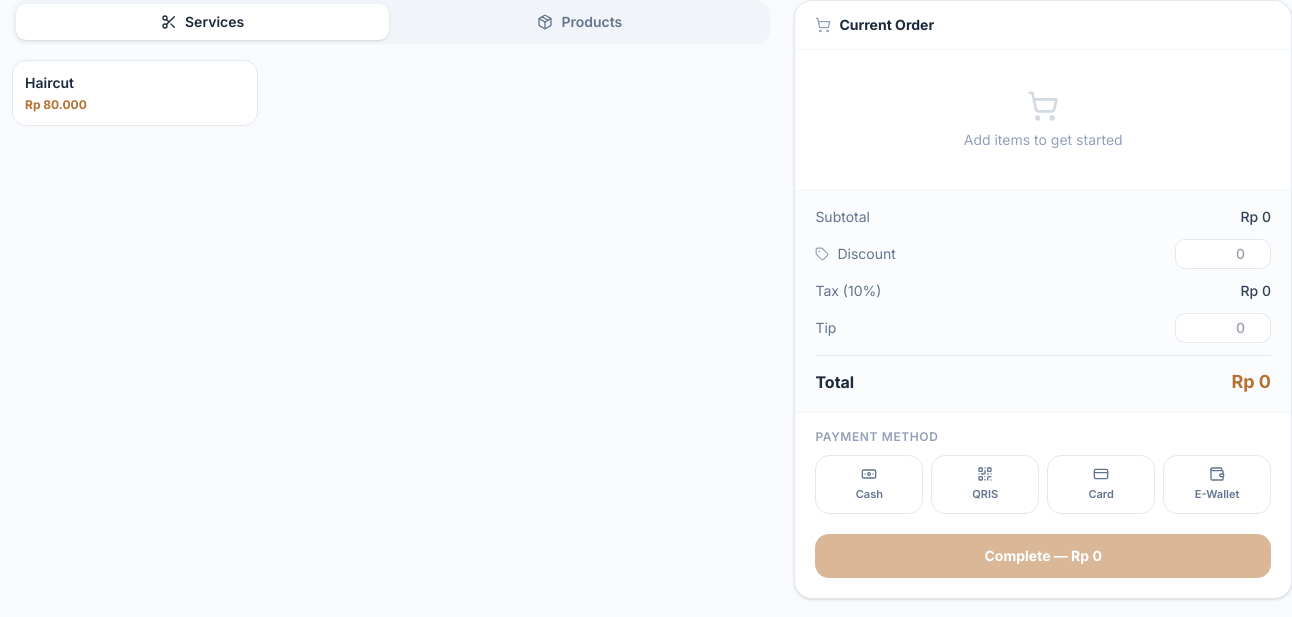
Test case: pos feature › POSCheckout › adds a service and completes online payment
Expected: the text "Haircut" is shown, [25,73,74,93]
What coordinates should you click on to do the following:
click the button "Haircut Rp 80.000"
I would click on:
 (135, 93)
Its box is [12,60,258,126].
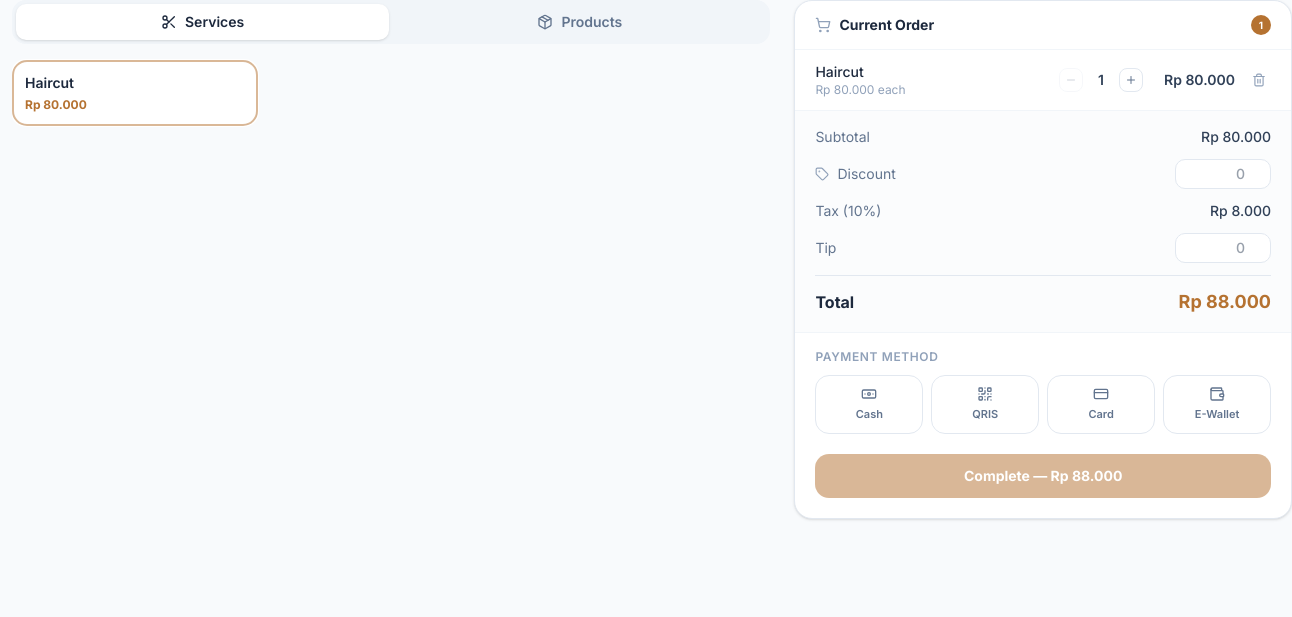
What coordinates should you click on to do the following:
click the button "Cash"
I would click on:
 (869, 404)
Its box is [815,375,923,434].
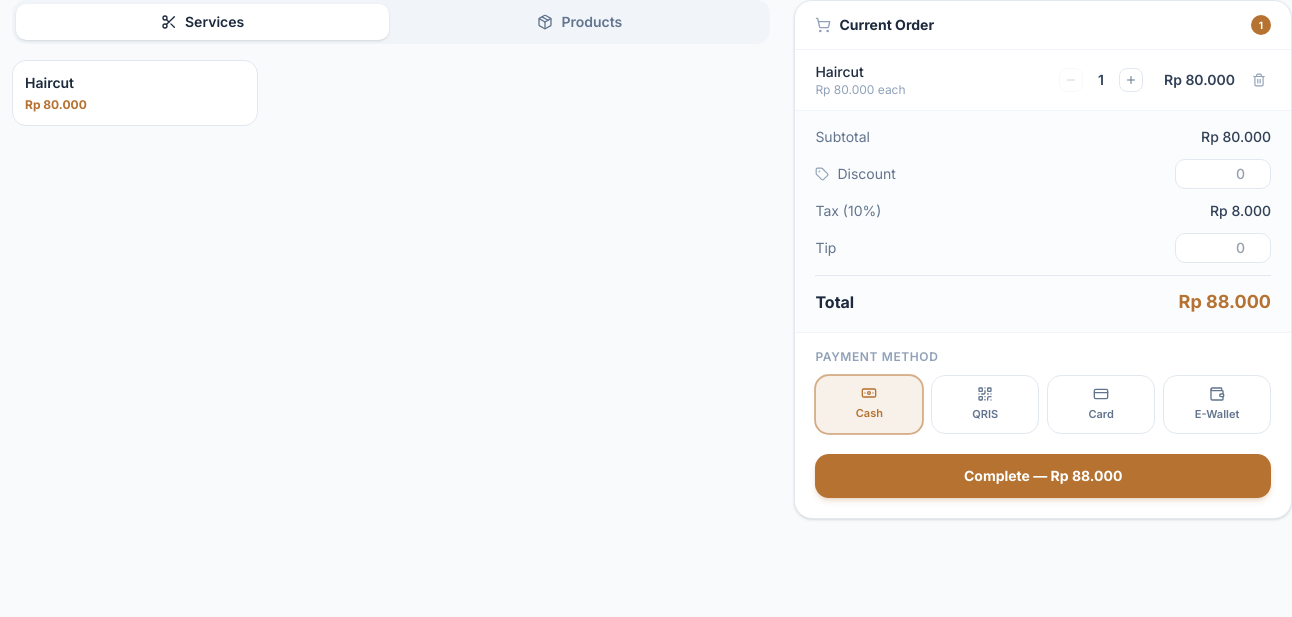
What coordinates should you click on to do the following:
click the button "Complete — Rp 88.000"
I would click on:
 (1043, 476)
Its box is [815,454,1271,498].
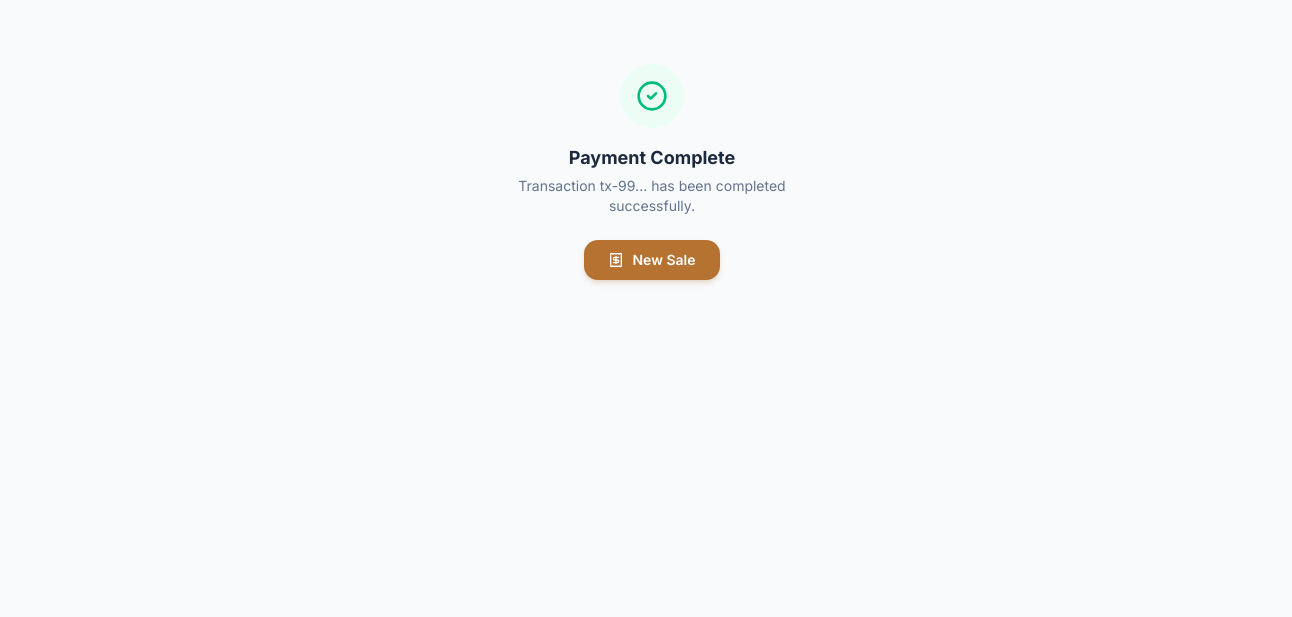
Result: the heading "Payment Complete" is shown at [569,144,735,172]
